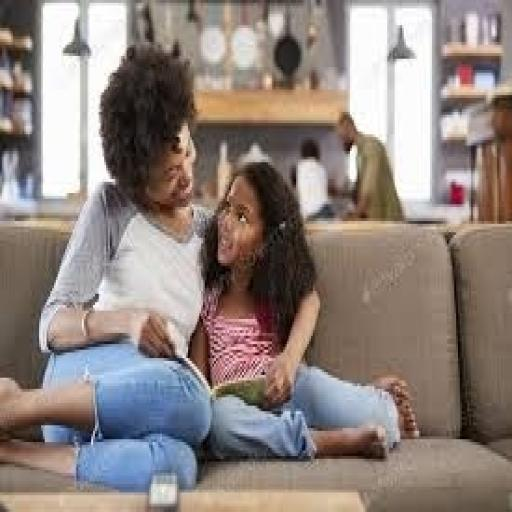sitting: (2, 39, 421, 490), (190, 156, 421, 464)
